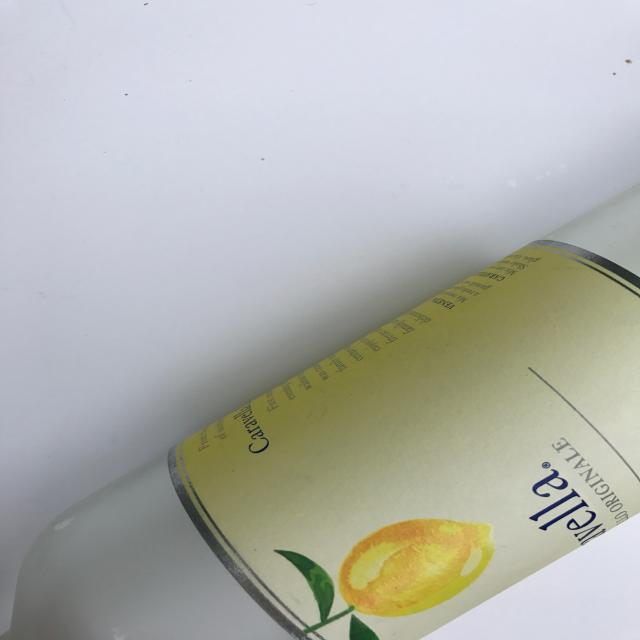glass: (2, 184, 640, 640)
